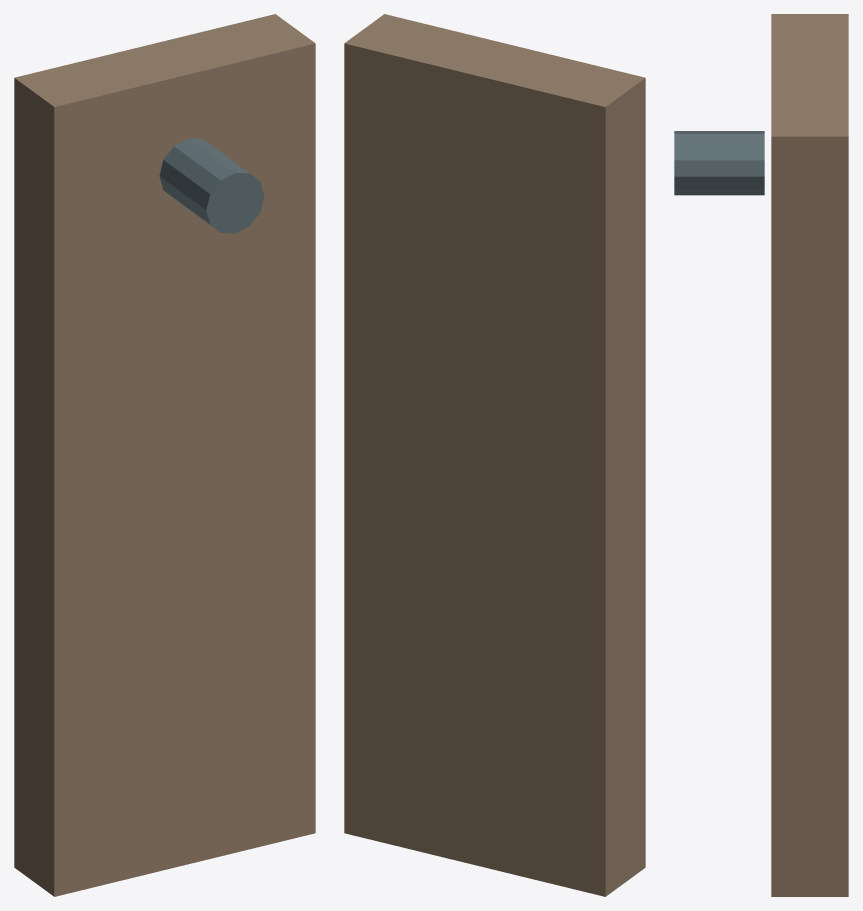
File: PR-BADGE.glb
The picture shows the model from 3 angles, left to right: view 1: azimuth 30°, elevation 25°; view 2: azimuth 150°, elevation 25°; view 3: azimuth 270°, elevation 25°; orthographic projection. The views are drawn at different scales.
Visible parts, largest first — view 1: wood_tag, strap_hole; view 2: wood_tag; view 3: wood_tag, strap_hole.
Boxes of the visible parts, left/top/right/bottom form: wood_tag: left=14, top=14, right=315, bottom=896; strap_hole: left=159, top=138, right=264, bottom=233; wood_tag: left=344, top=14, right=645, bottom=896; wood_tag: left=771, top=14, right=848, bottom=896; strap_hole: left=674, top=131, right=764, bottom=195.
Bounding box in the file's own units: 0.045 × 0.13 × 0.027.
